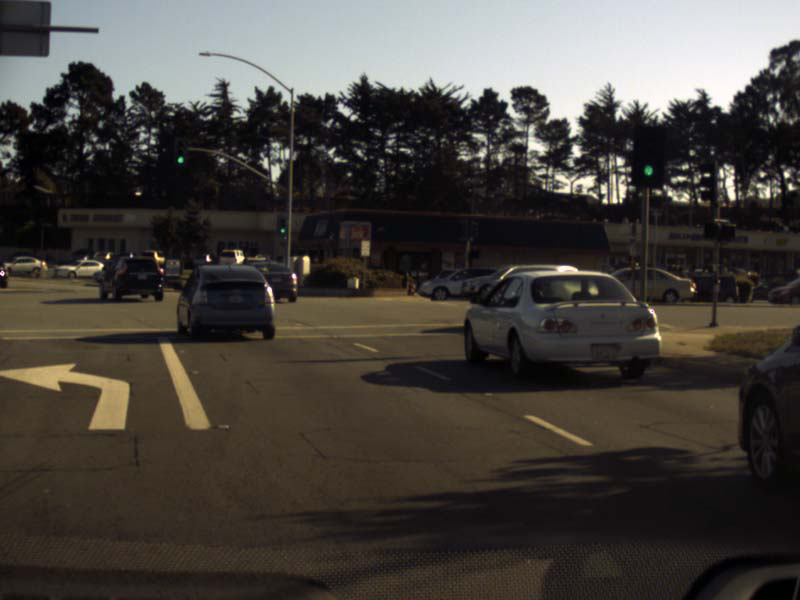Green: (633, 125, 661, 187), (174, 136, 186, 167), (278, 216, 286, 234)
